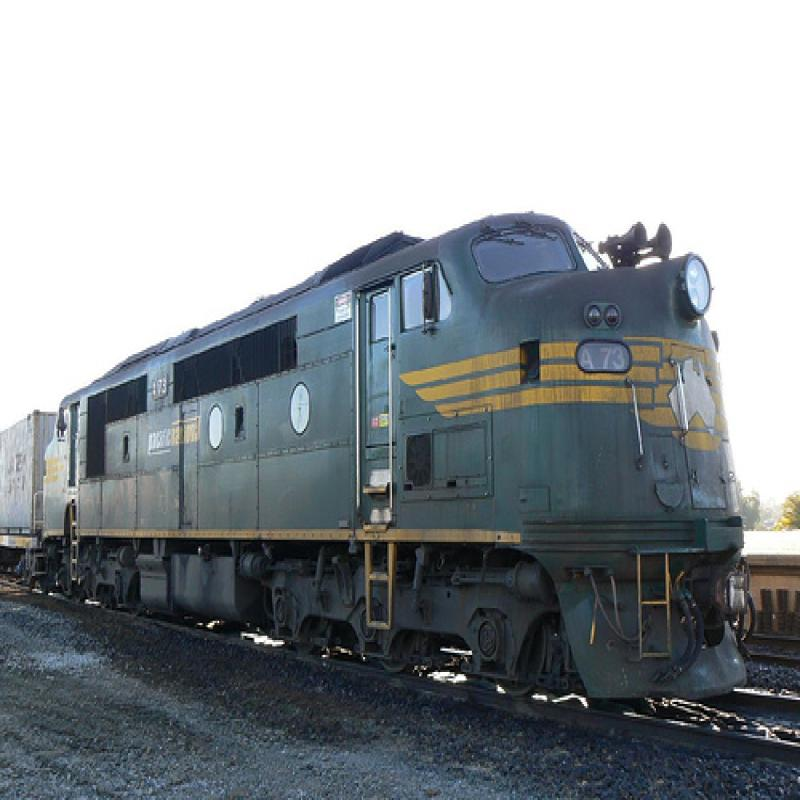train: (3, 214, 756, 703)
